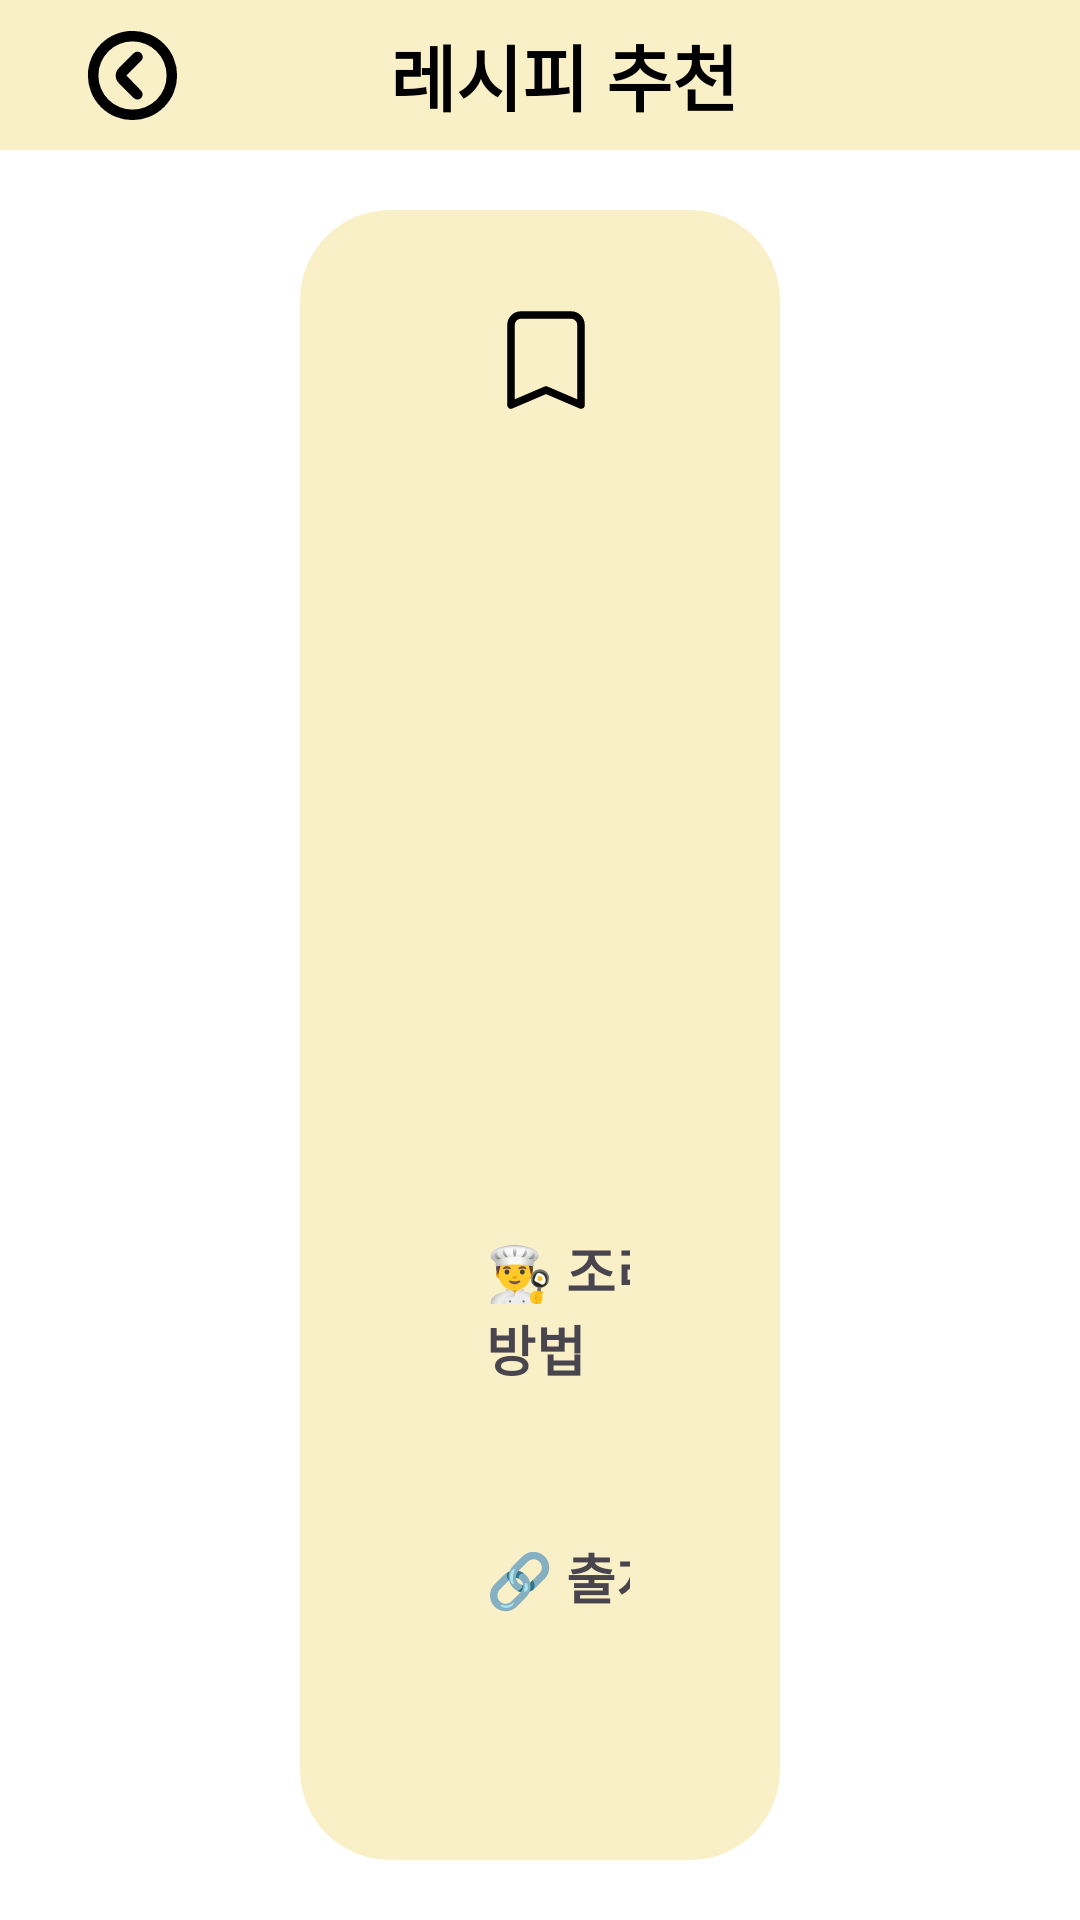

Screen size 1080 x 1920. Icon name, then its box in pixels as (x1, y1, x2, y2):
즐겨찾기: (507, 311, 585, 409)
